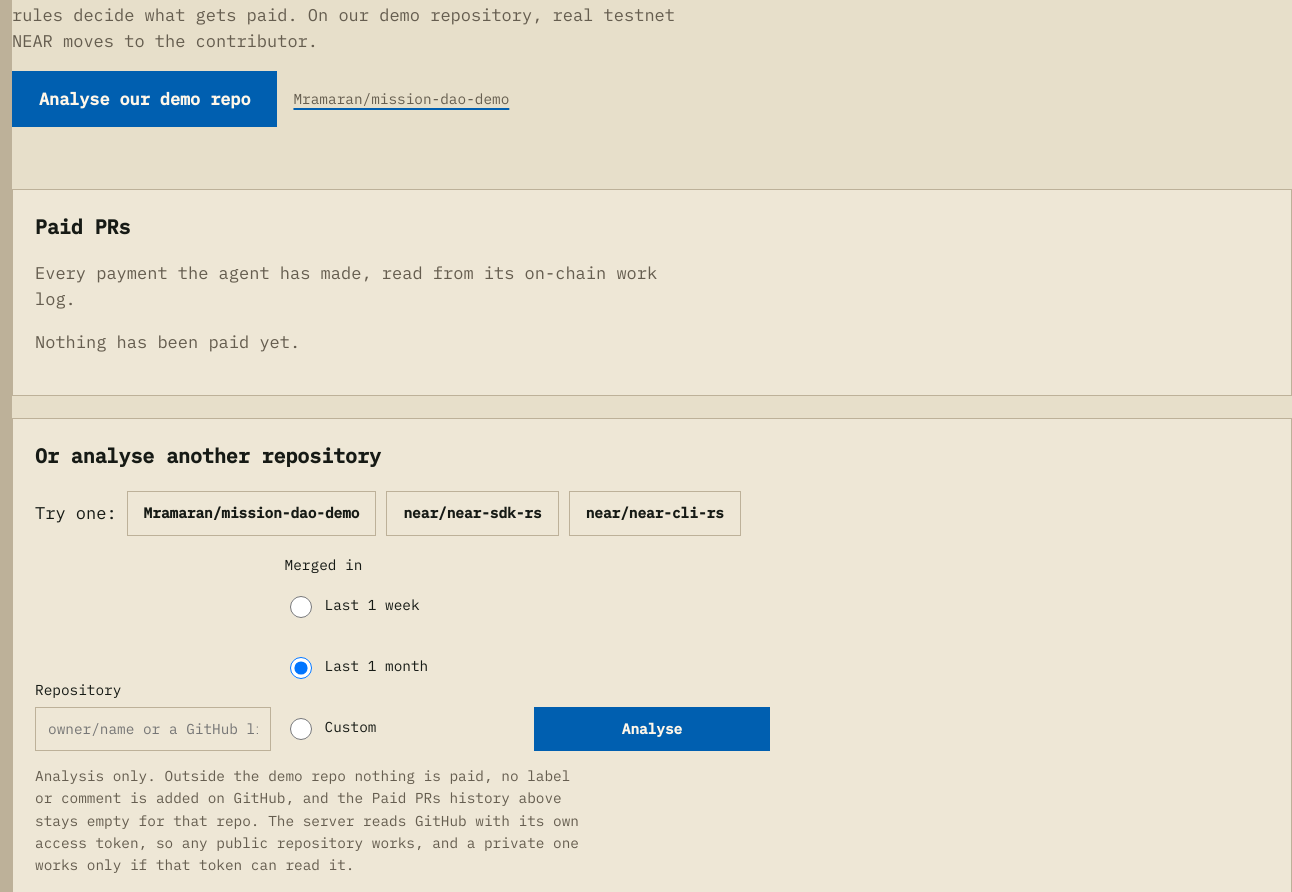
Test case: AnalyseRepo › shows the capped message
(page scrolled)
Type "o/r" into the field labelled "Repository" at [153, 729], box top-left (35, 707), bottom-right (271, 751)
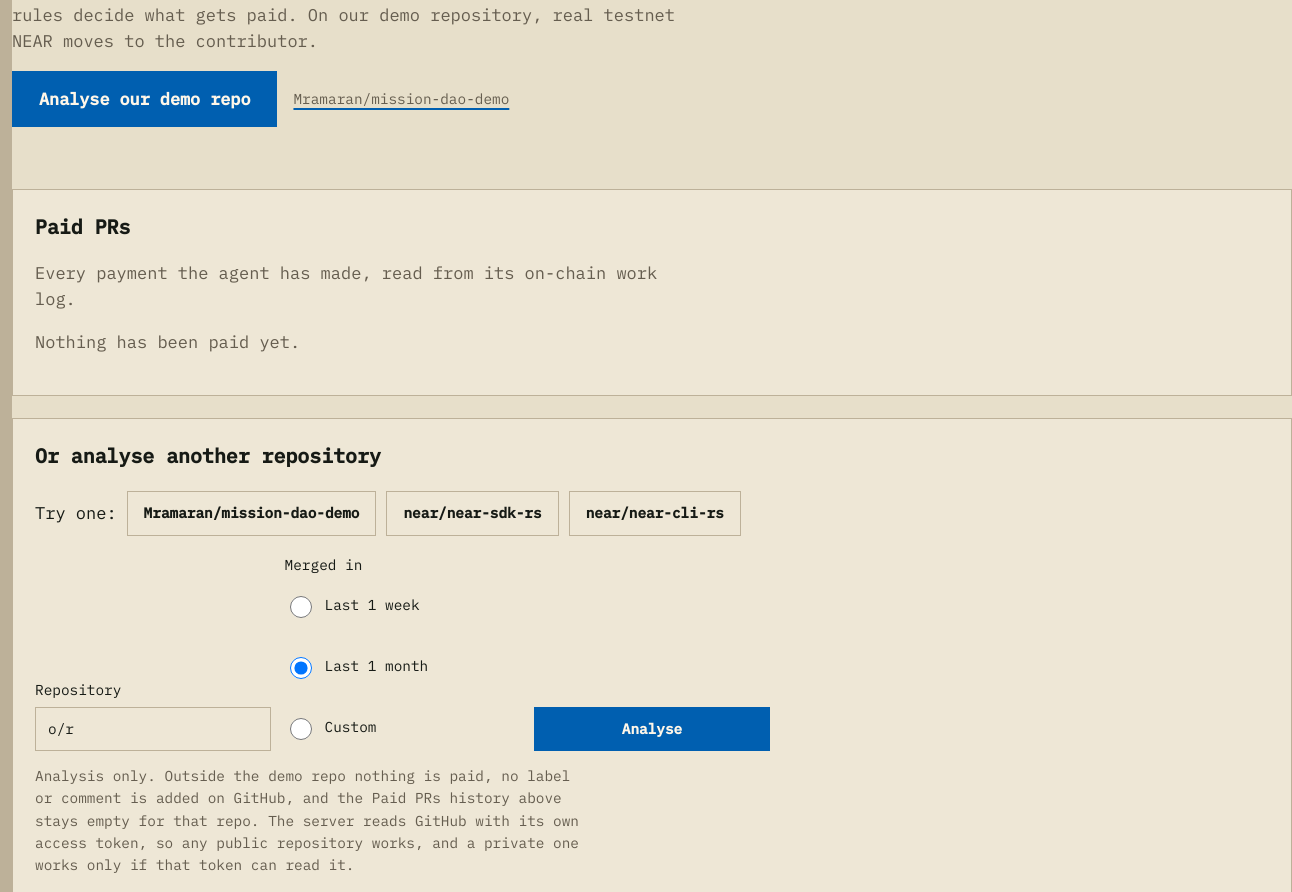
Click the button "Analyse" at [652, 729], box top-left (534, 707), bottom-right (770, 751)
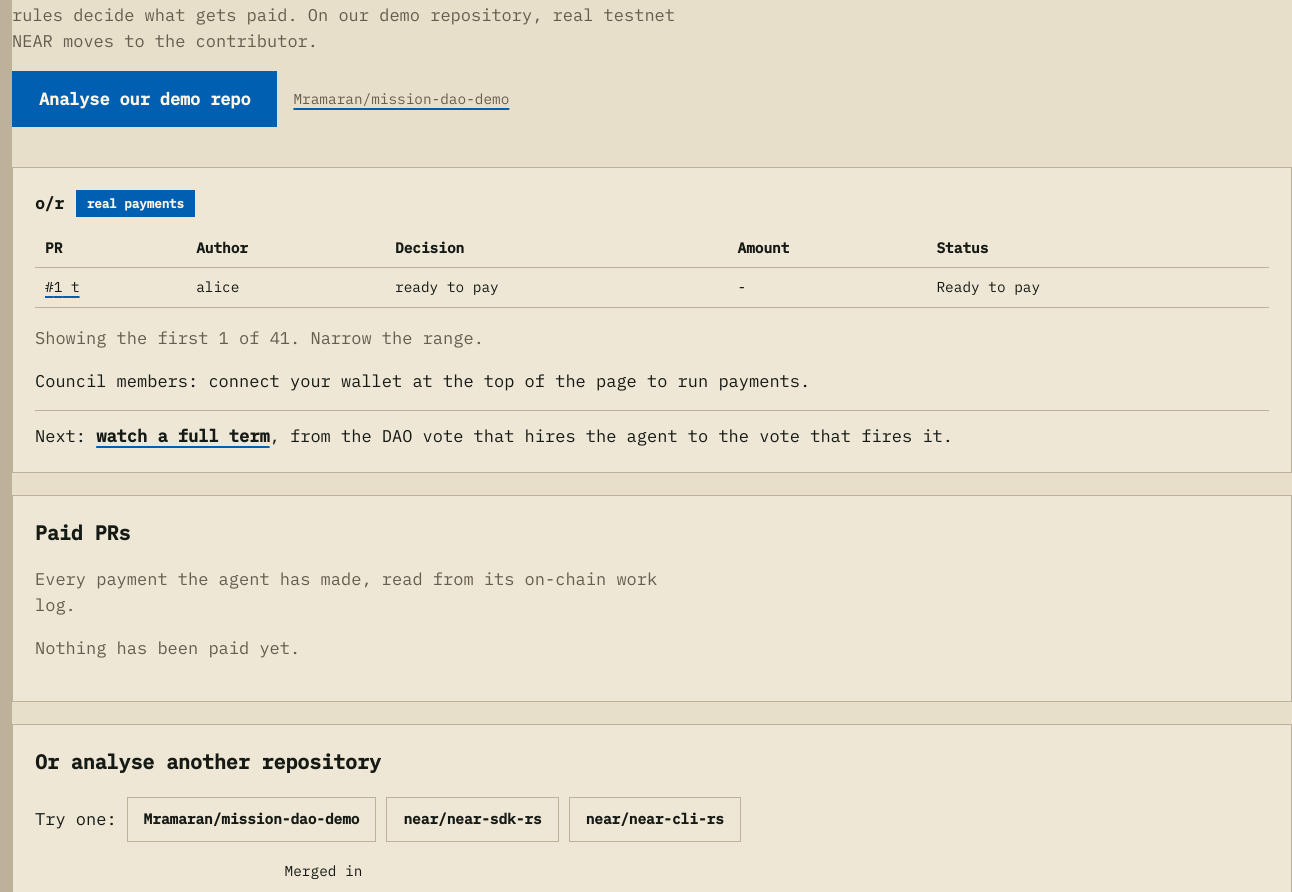
Result: the text "Showing the first 1 of 41. Narrow the range." is shown at top-left (35, 327), bottom-right (484, 349)
